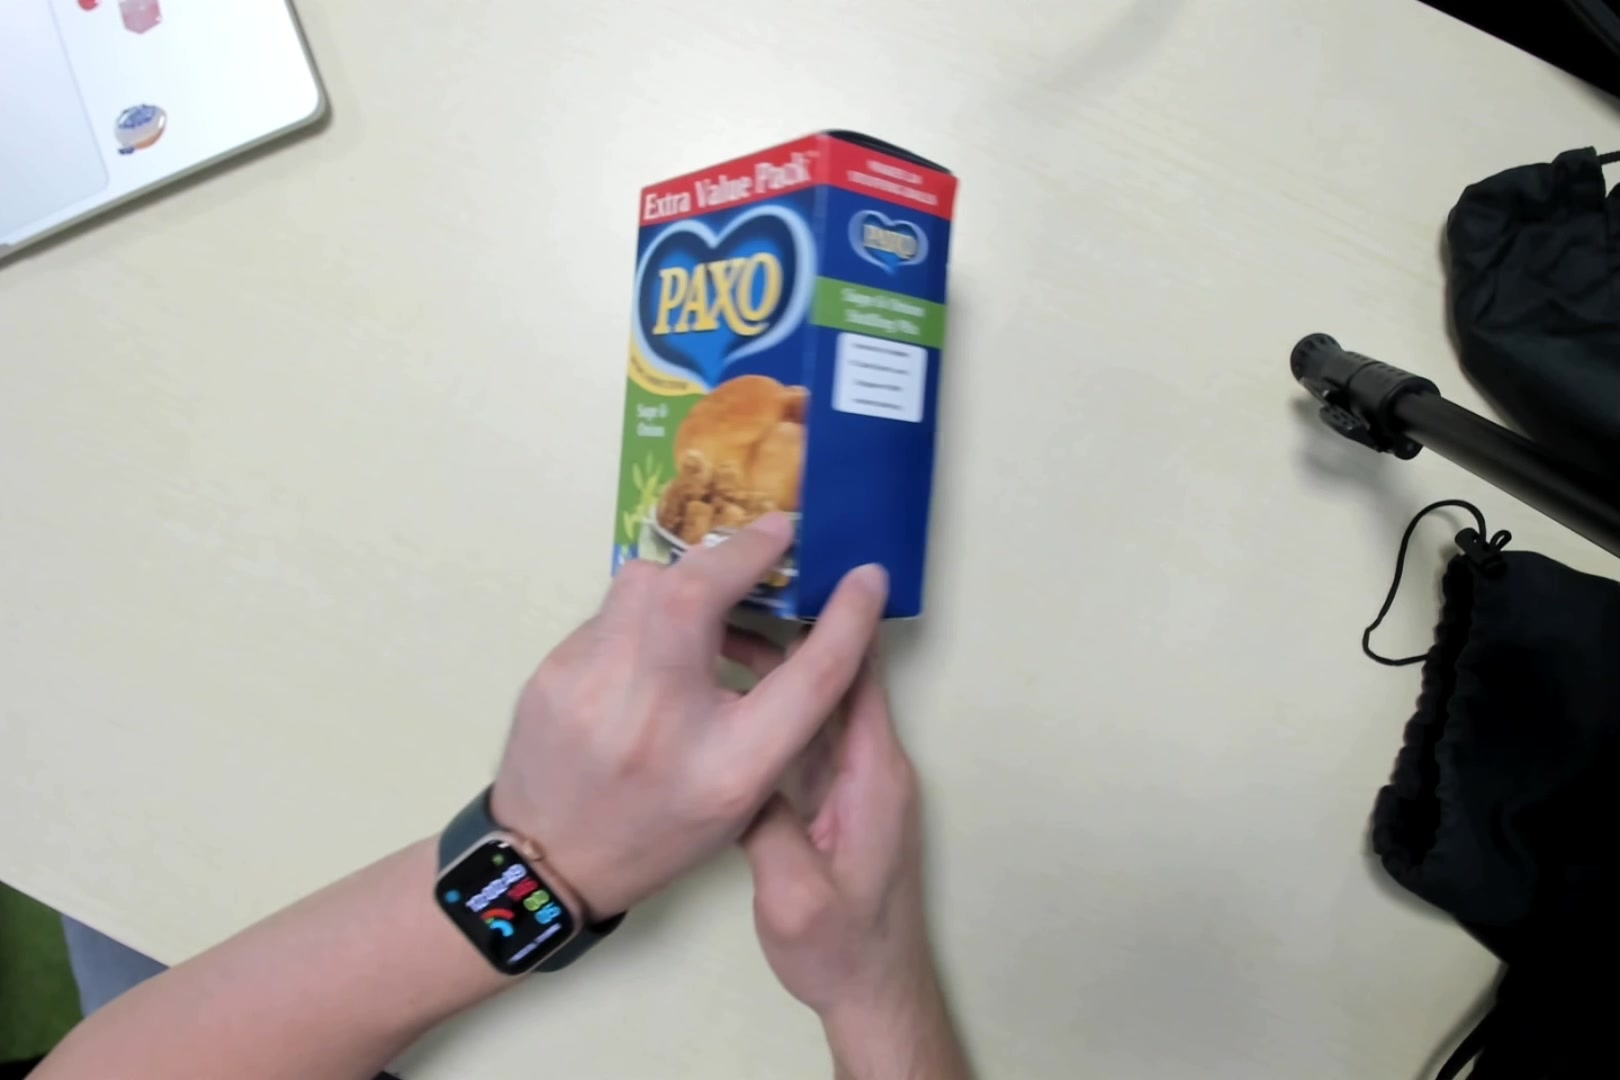OtherBakingNeeds_300-399g_NonHalal_NonHealthy: (612, 130, 957, 635)
